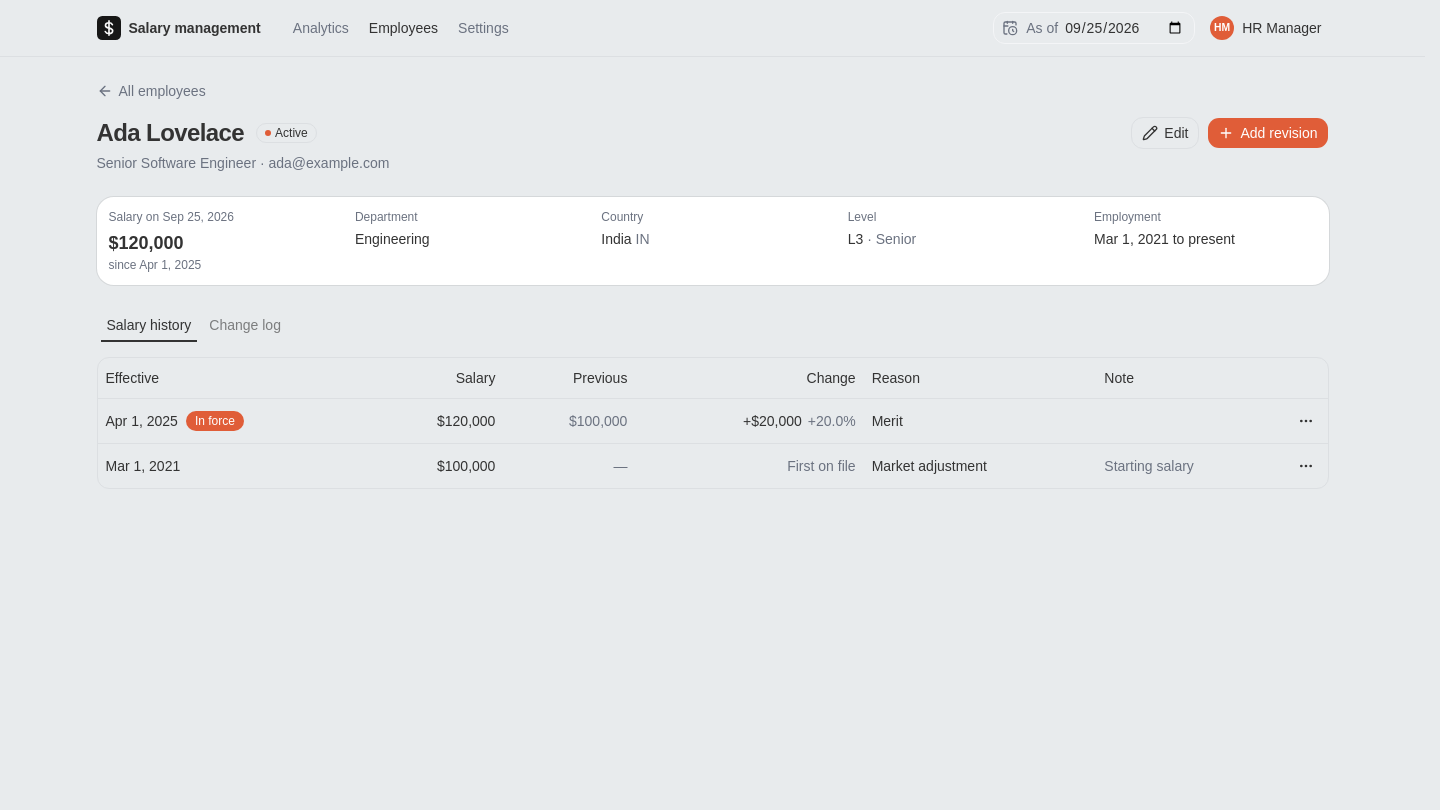
Test case: edit employee › puts each 422 detail on its field, and country on the country select
The width and height of the screenshot is (1440, 810).
Click the button "Edit" at (1165, 133), box [1131,117,1199,149]
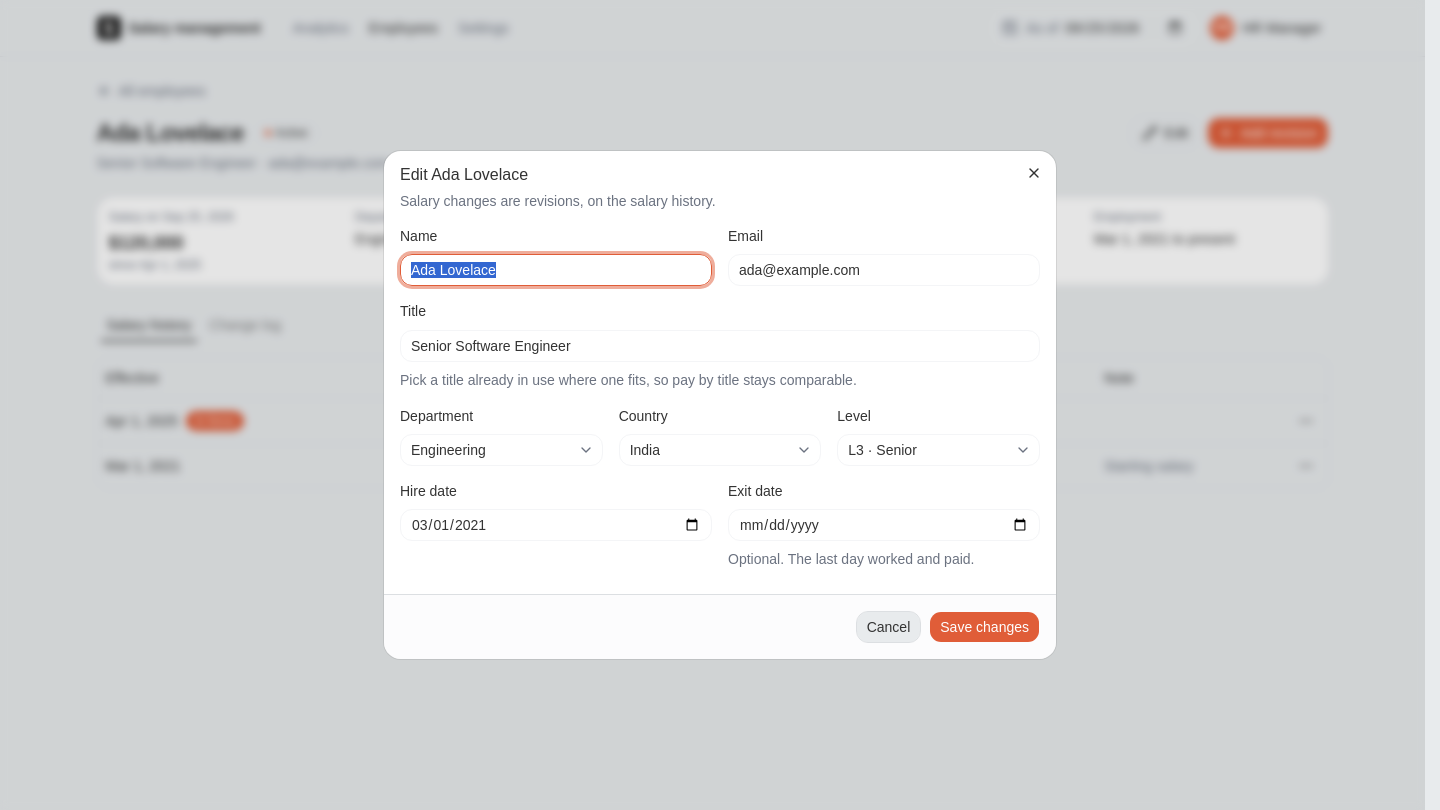
Type " King" into the field labelled "Name" at (556, 270), box [400,254,712,286]
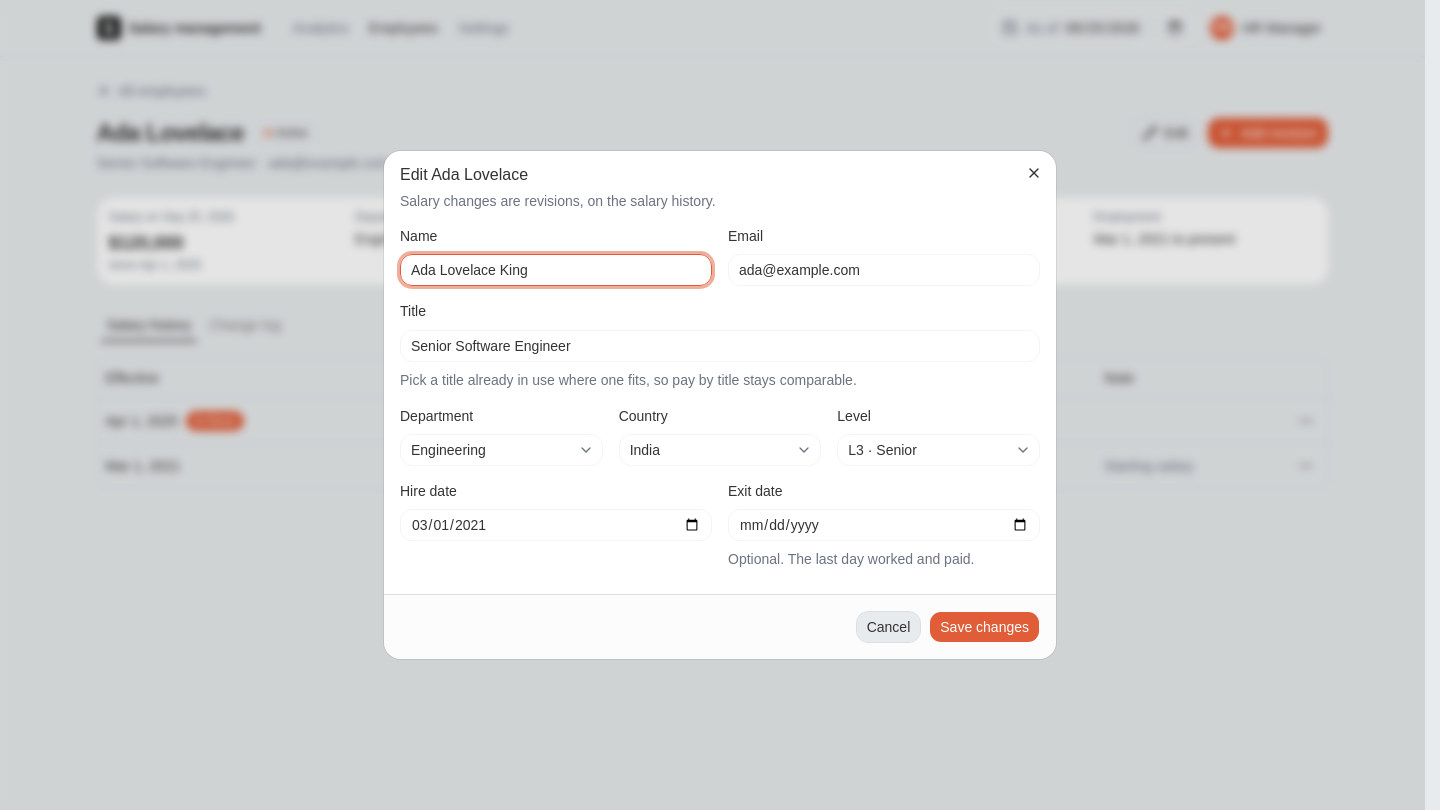
Click the button "Save changes" at (985, 627), box [929,611,1040,643]
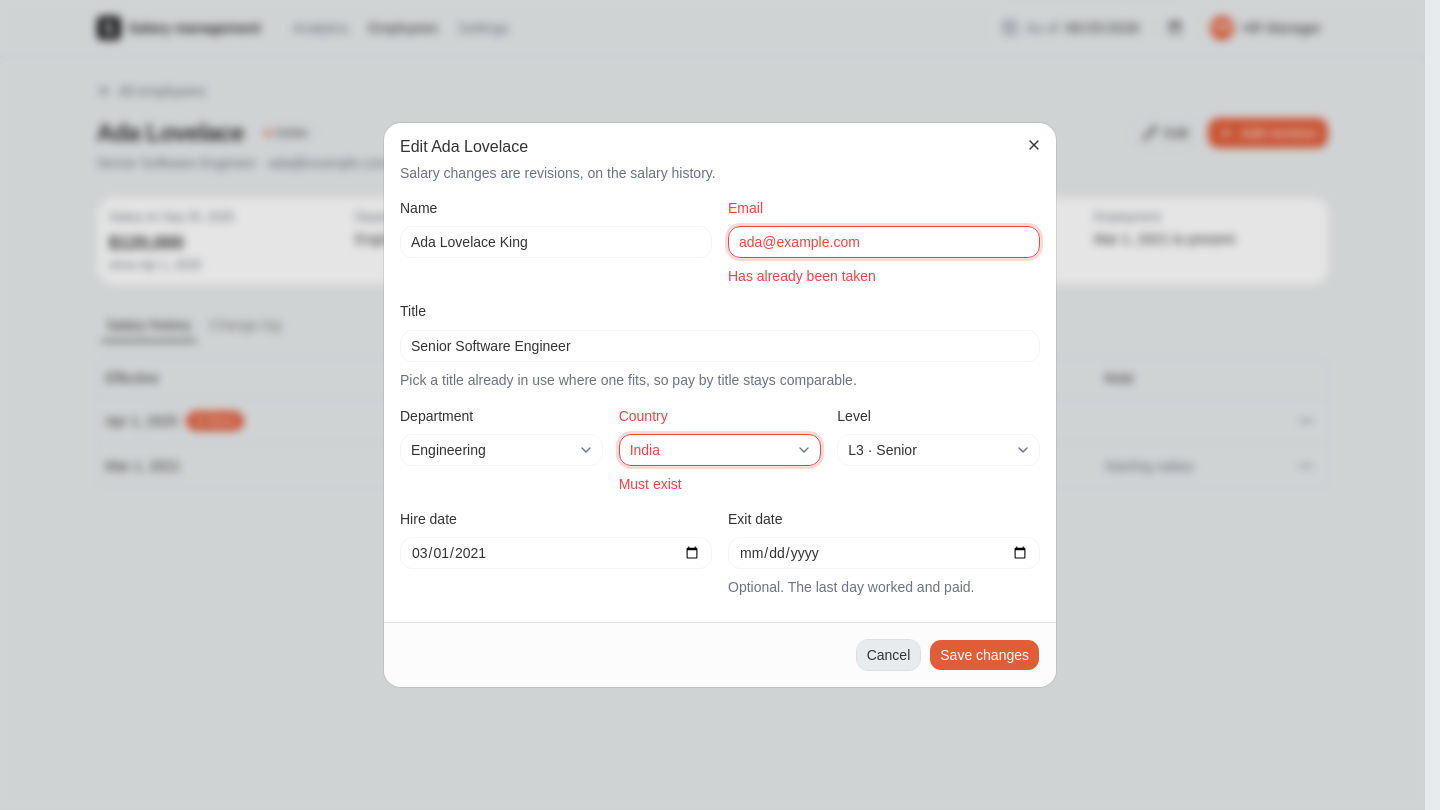
Check: the text "Has already been taken" is shown, box [728,268,876,284]
Check: the text "Must exist" is shown, box [619,476,682,492]
